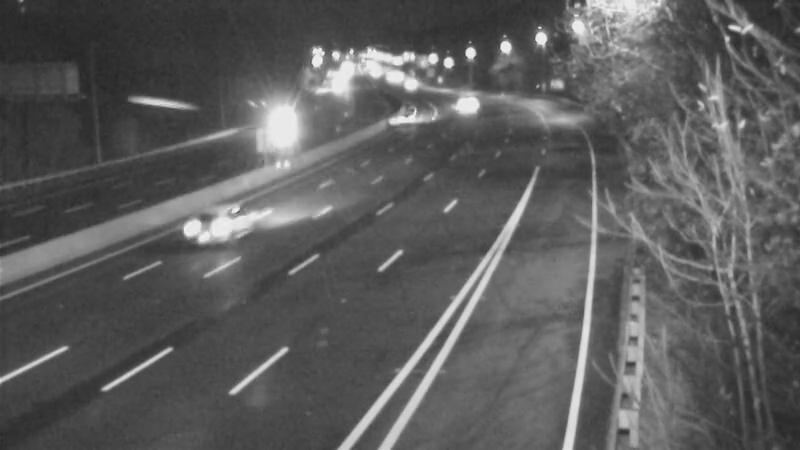vehicle: (191, 180, 271, 260), (437, 79, 487, 129), (373, 90, 423, 140), (258, 98, 308, 148)
